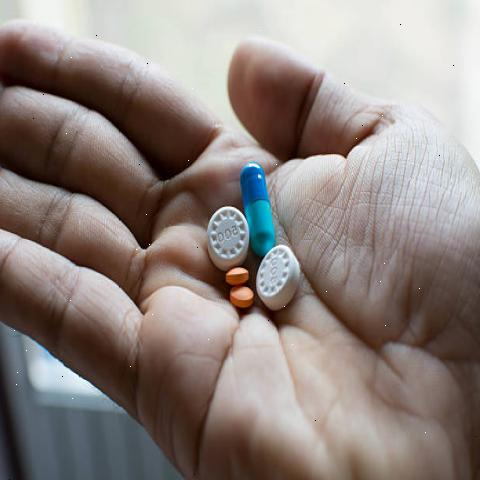Pill: (251, 239, 305, 314), (202, 194, 250, 272)
